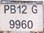character: (31, 4, 38, 14), (8, 18, 15, 28), (3, 3, 9, 14), (10, 4, 17, 13), (21, 4, 27, 14), (21, 19, 27, 29), (27, 19, 33, 29), (16, 4, 21, 14), (15, 19, 20, 29)
